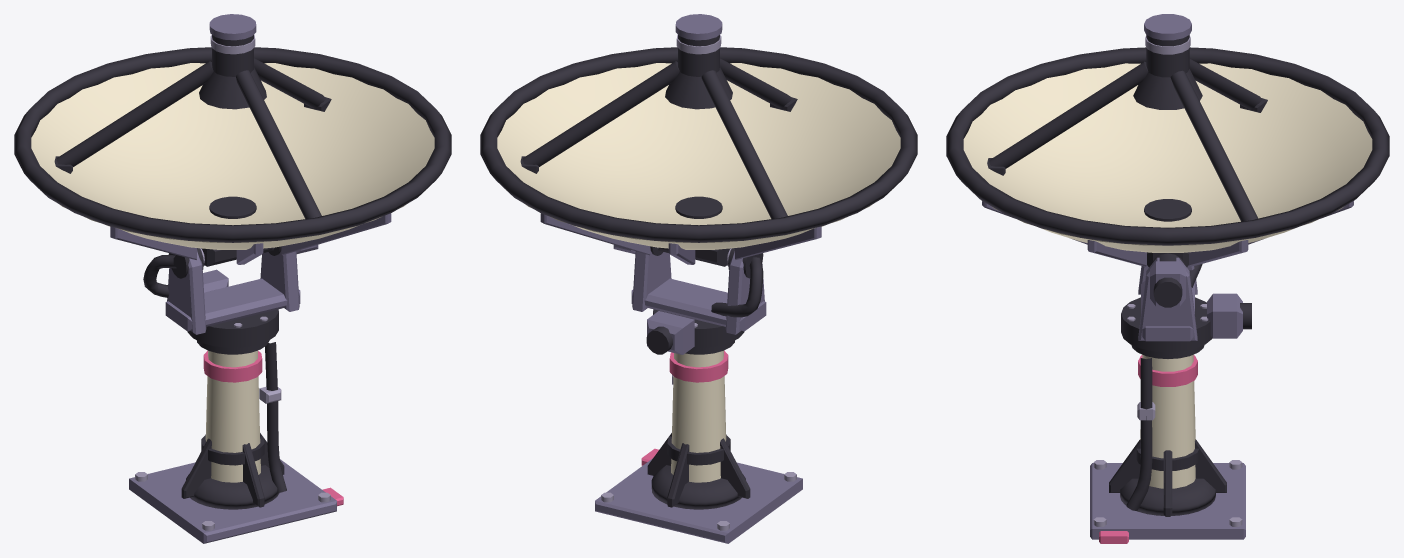
Rendered from antenna_high_gain.glb.
3 renders of one model, left to right at view 1: azimuth 30°, elevation 25°; view 2: azimuth 150°, elevation 25°; view 3: azimuth 270°, elevation 25°, orthographic.
Parts seen in each view (by area): view 1: dish_creamHull, dish_graphite, gimbal_purpleGrey, plate_purpleGrey, mast_graphite, mast_creamHull, gimbal_graphite, dish_purpleGrey, plate_pink, plate_purpleGreyLight, tilt_graphite; view 2: dish_creamHull, dish_graphite, plate_purpleGrey, gimbal_purpleGrey, mast_graphite, mast_creamHull, dish_purpleGrey, gimbal_graphite, plate_pink, tilt_graphite; view 3: dish_creamHull, dish_graphite, mast_graphite, plate_purpleGrey, gimbal_purpleGrey, mast_creamHull, gimbal_graphite, dish_purpleGrey, plate_pink, plate_purpleGreyLight.
Boxes of the visible parts, x1,y1,x2,y2 form: dish_creamHull: (31,63,434,249); dish_graphite: (14,35,451,242); gimbal_purpleGrey: (165,245,318,334); plate_purpleGrey: (129,459,336,543); mast_graphite: (181,340,286,509); mast_creamHull: (205,350,260,482); gimbal_graphite: (143,246,281,347); dish_purpleGrey: (110,14,391,264); plate_pink: (203,350,343,506); plate_purpleGreyLight: (135,387,330,530); tilt_graphite: (201,247,273,266); dish_creamHull: (497,63,900,249); dish_graphite: (480,35,917,242); plate_purpleGrey: (595,458,802,543); gimbal_purpleGrey: (613,245,766,354); mast_graphite: (647,340,750,509); mast_creamHull: (671,350,726,482); dish_purpleGrey: (540,14,821,264); gimbal_graphite: (646,246,763,354); plate_pink: (641,350,728,465); tilt_graphite: (658,247,730,266); dish_creamHull: (963,63,1372,252); dish_graphite: (946,35,1389,245); mast_graphite: (1109,345,1226,516); plate_purpleGrey: (1090,463,1245,539); gimbal_purpleGrey: (1138,257,1242,341); mast_creamHull: (1140,354,1195,488); gimbal_graphite: (1121,253,1251,352); dish_purpleGrey: (982,14,1353,266); plate_pink: (1099,355,1197,543); plate_purpleGreyLight: (1093,402,1242,526).
Size of the model in its own units: 0.742 by 0.887 by 0.7379.
